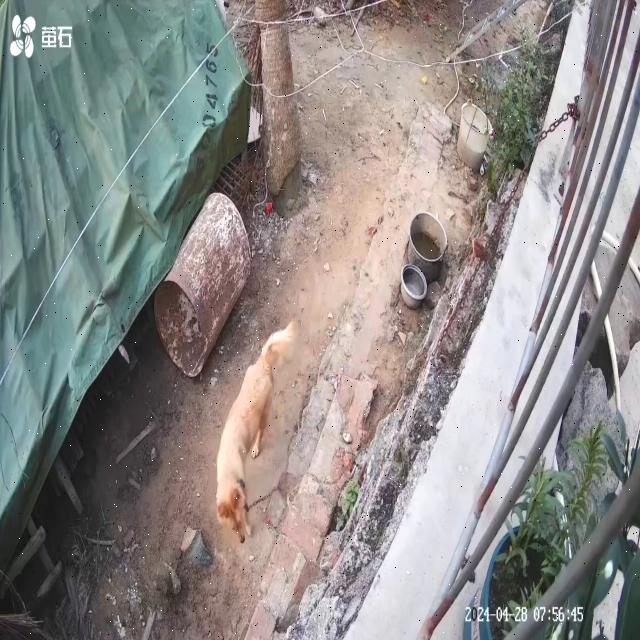dog: (216, 319, 298, 545)
